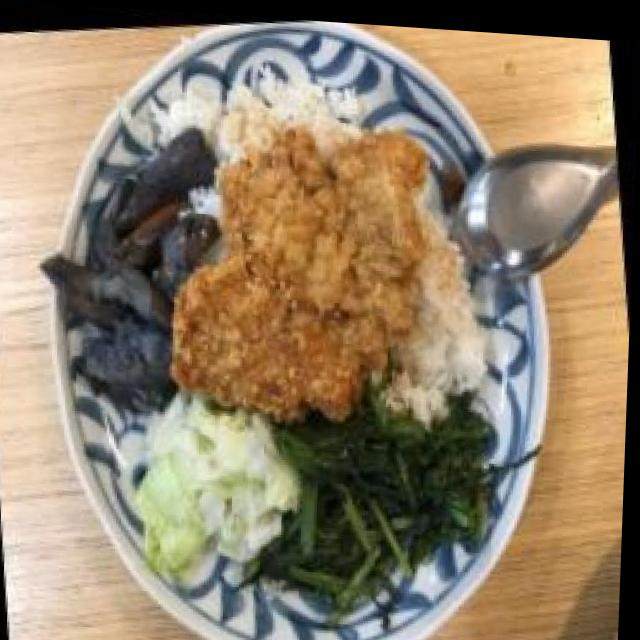chinese_cabbage: (133, 398, 297, 586)
fried_chicken: (153, 109, 452, 427)
rice: (404, 220, 489, 404), (181, 67, 368, 144)
water_spinach: (273, 385, 509, 605)
